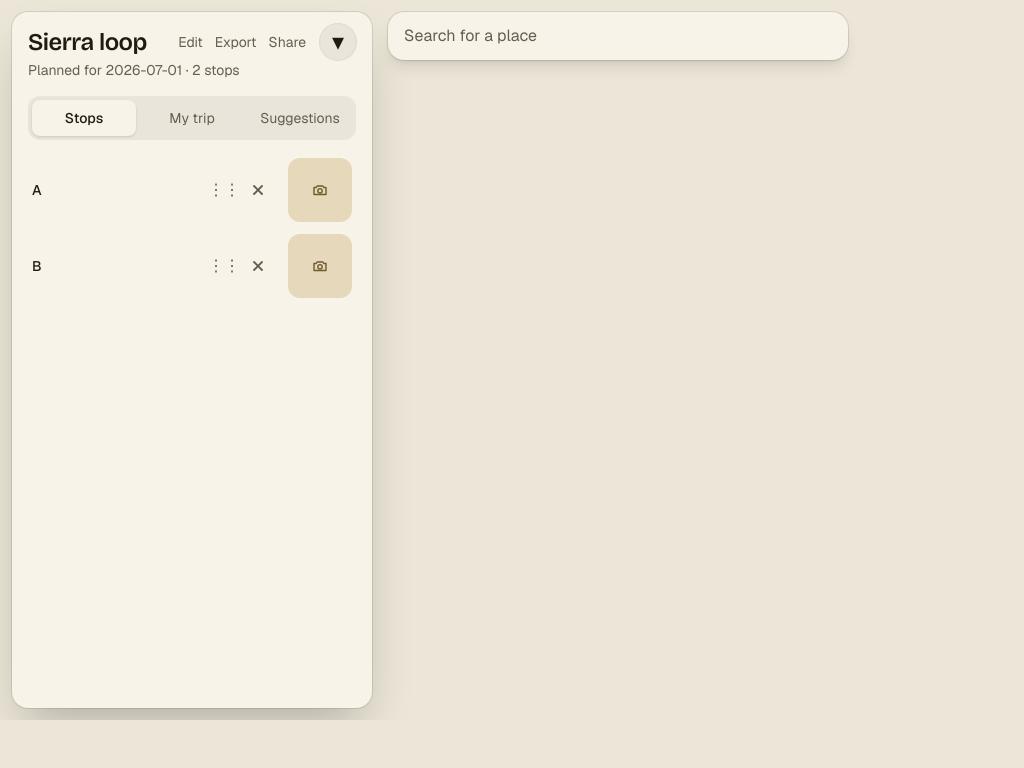
Test: TripEditor › shows totals only after Optimize
Click the tab "My trip".
click(192, 118)  # box [140, 100, 244, 136]
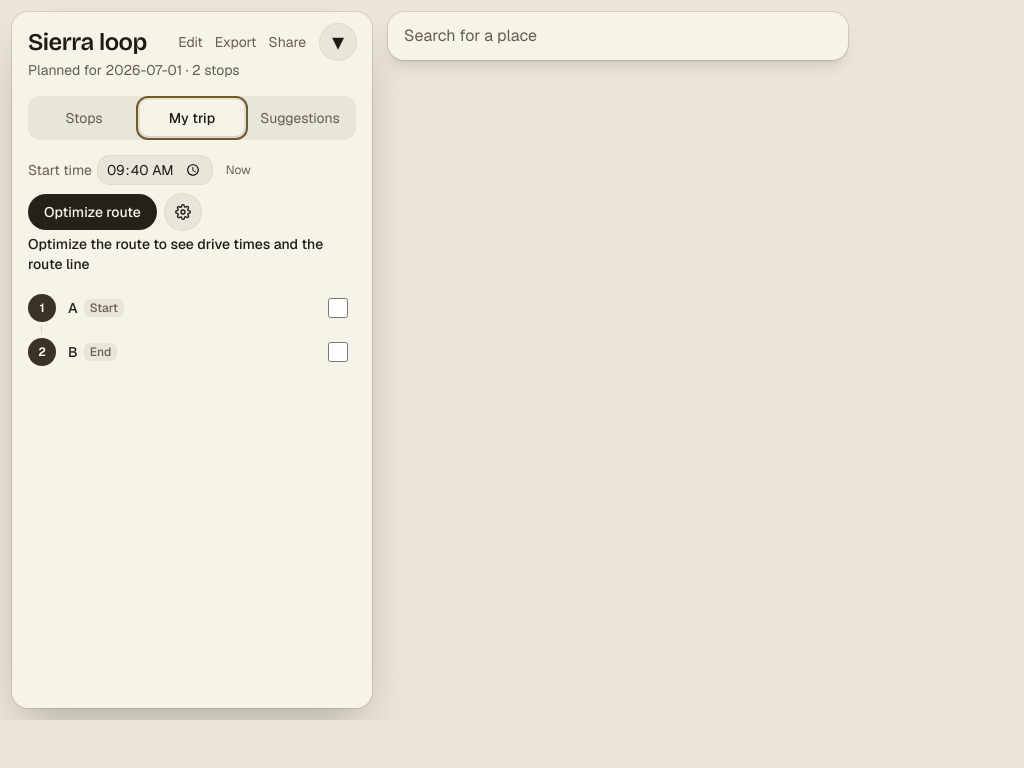
Expected: the text with test id "route-status" reads "Optimize the route to see drive times and the route line", [28, 235, 323, 273]
Click the button "Optimize route".
click(92, 212)  # box [28, 194, 157, 230]
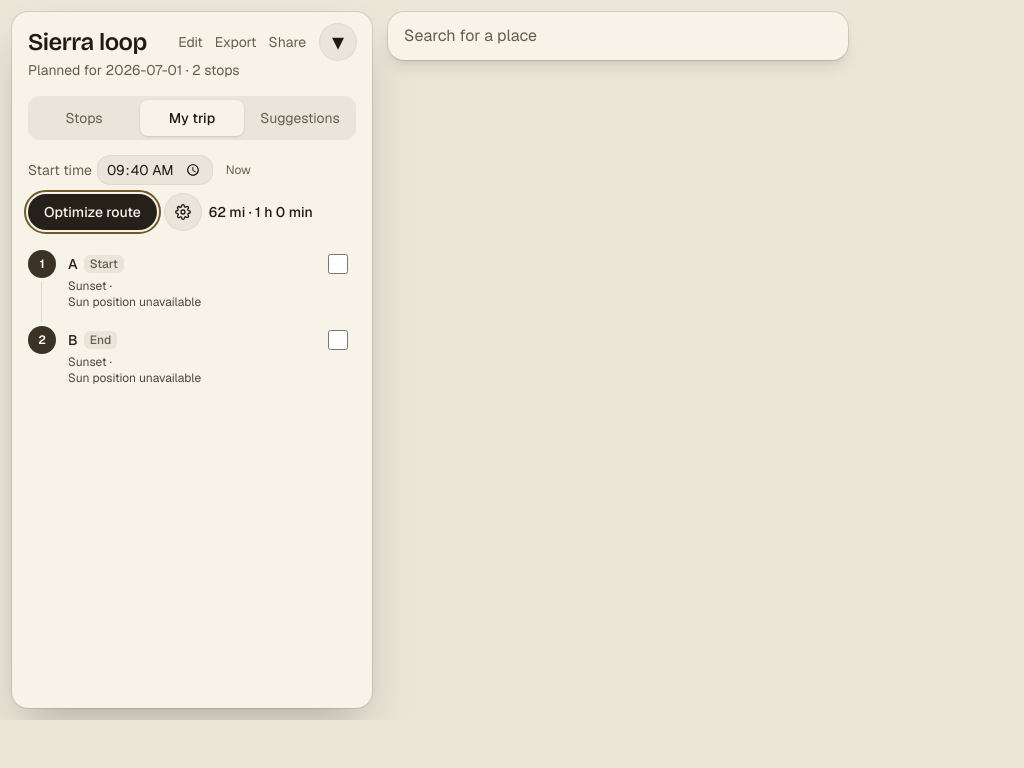
Expected: the text with test id "route-status" reads "62 mi · 1 h 0 min", [209, 203, 313, 221]
